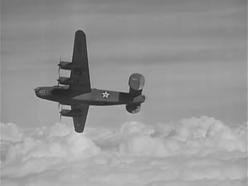aircraft: (35, 29, 146, 133)
